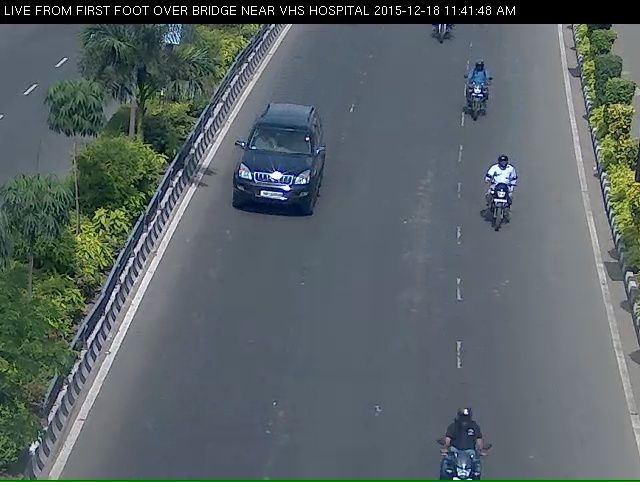Car: (234, 118, 323, 239)
Person: (482, 164, 521, 247), (462, 58, 493, 133)
